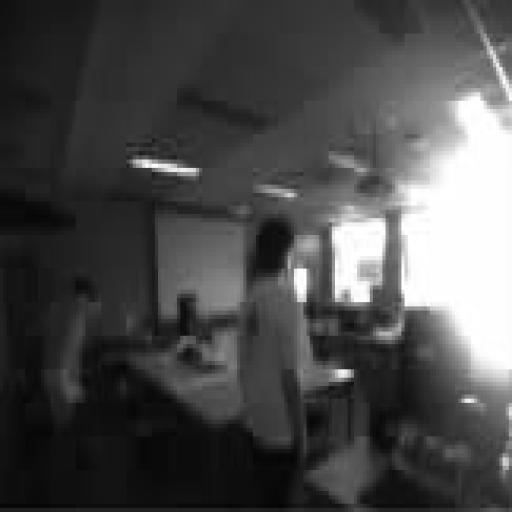human: (238, 215, 309, 507), (42, 277, 101, 428)
